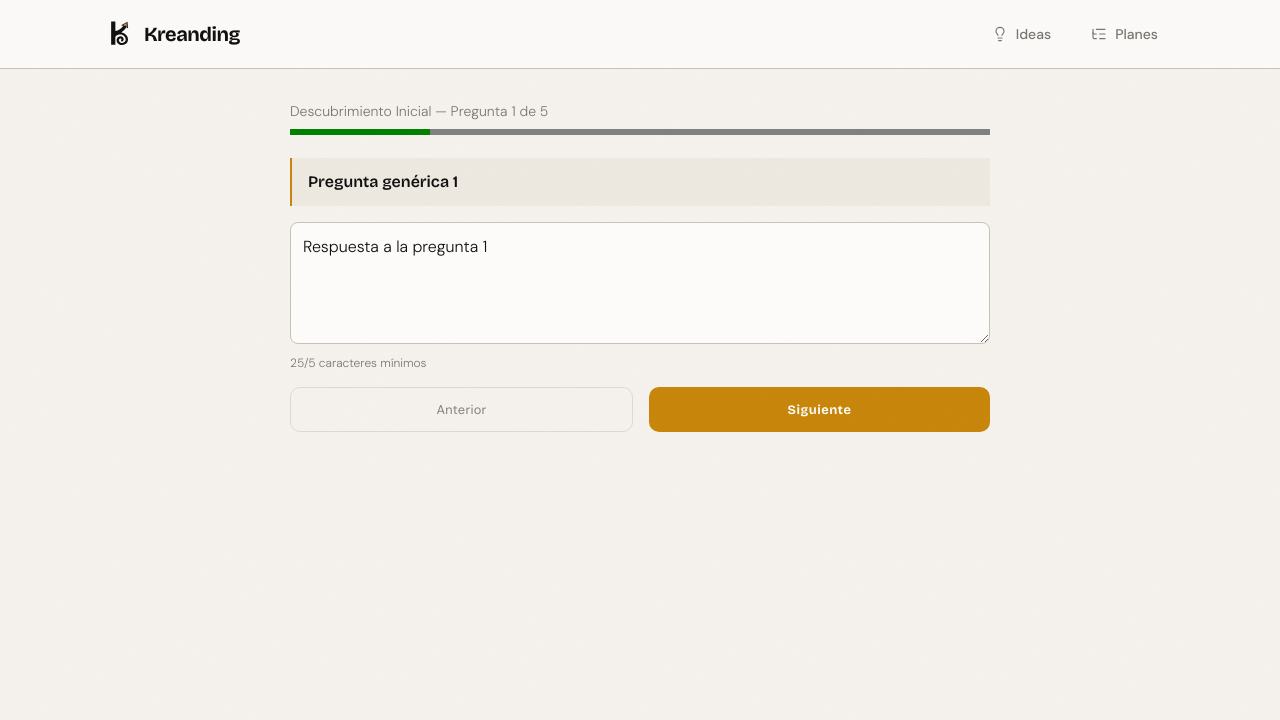
Test: Preguntas genéricas › la última pregunta lleva al resumen
Check: the text "Pregunta genérica 1" is shown, box [308,172,458,191]
Click the button "Siguiente" at (820, 410), box [649,387,990,432]
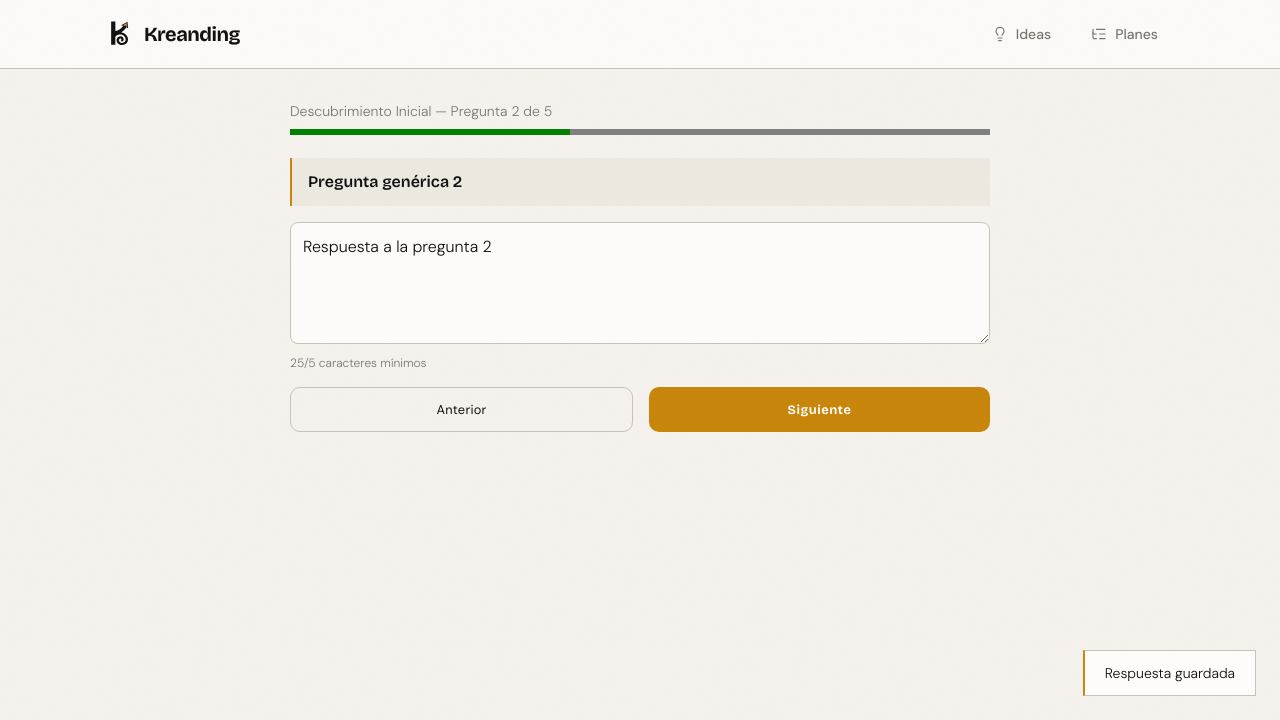
Check: the text "Pregunta genérica 2" is shown, box [308,172,462,191]
Click the button "Siguiente" at (820, 410), box [649,387,990,432]
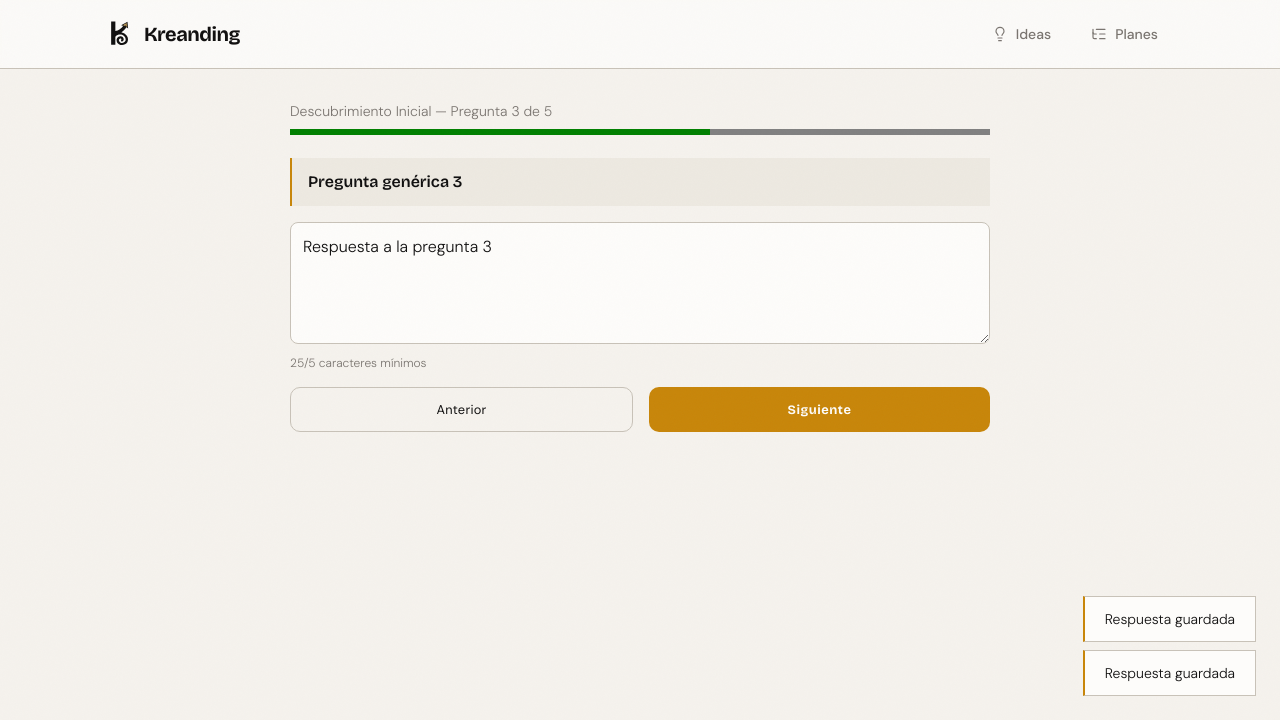
Click the button "Siguiente" at (820, 410), box [649,387,990,432]
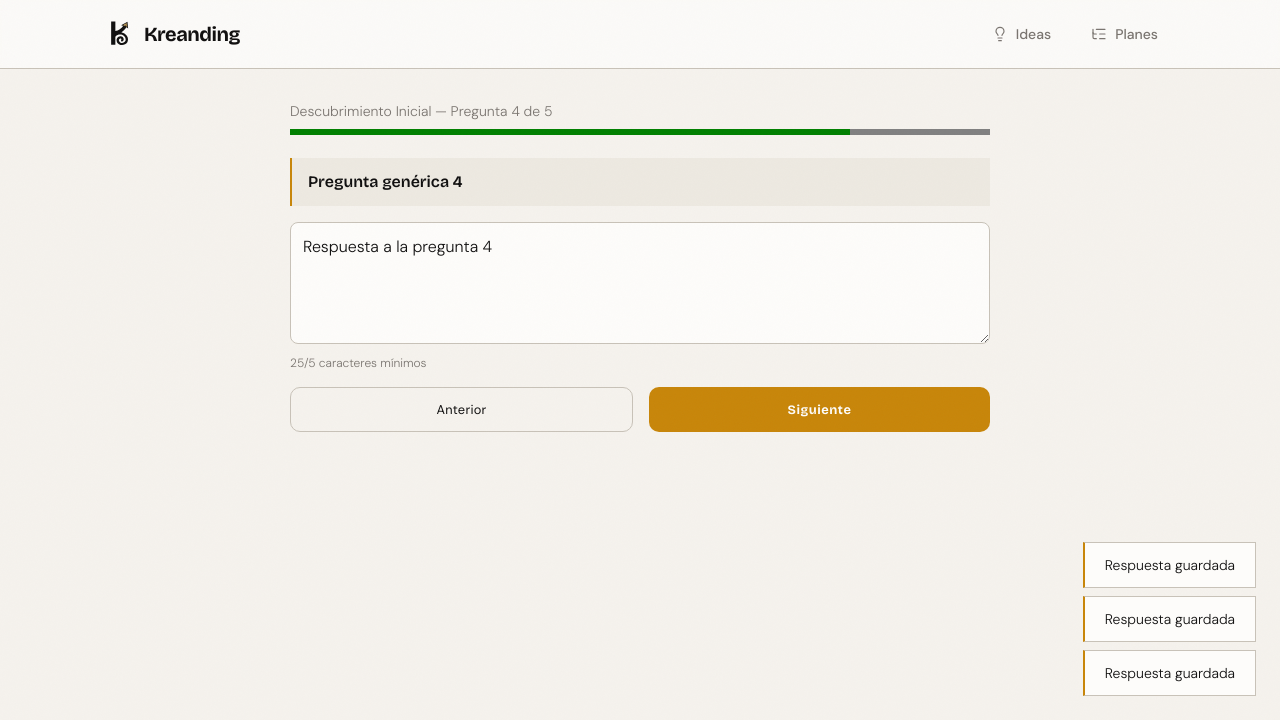
Click the button "Siguiente" at (820, 410), box [649,387,990,432]
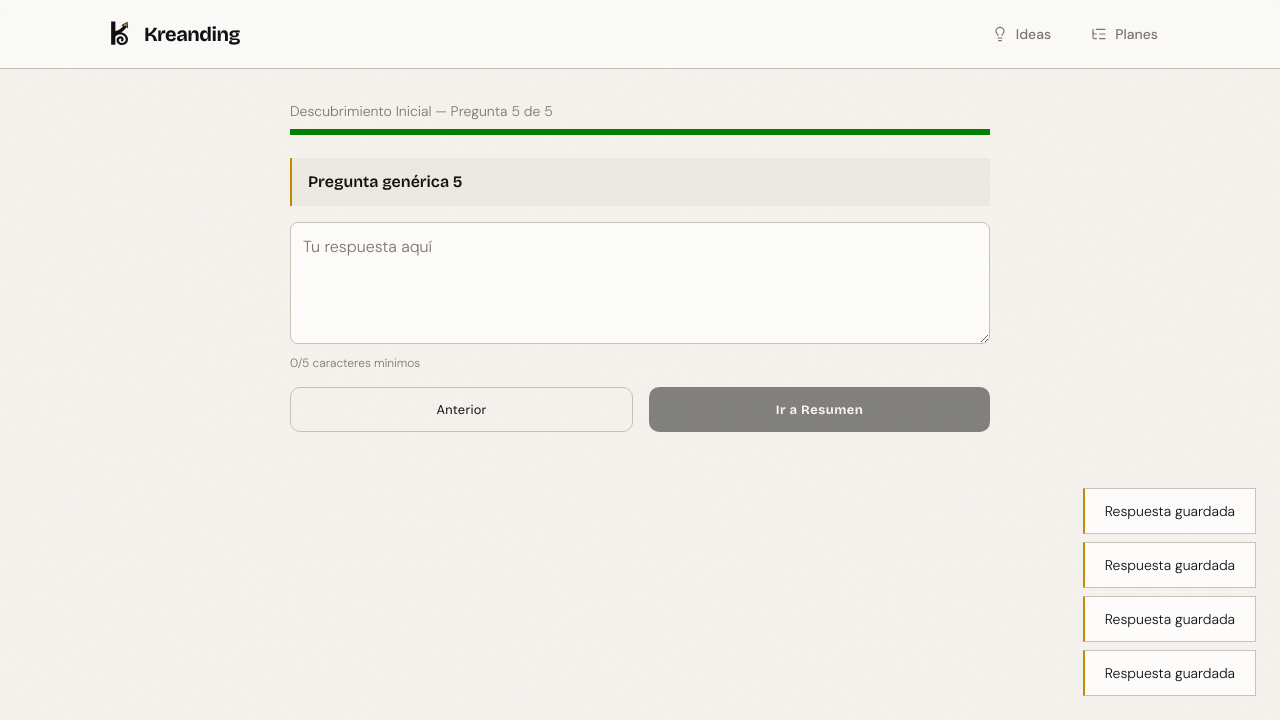
Check: the text "Pregunta genérica 5" is shown, box [308,172,462,191]
Type "Respuesta final suficientemente larga" into the text box at (640, 283), box [290,222,990,344]
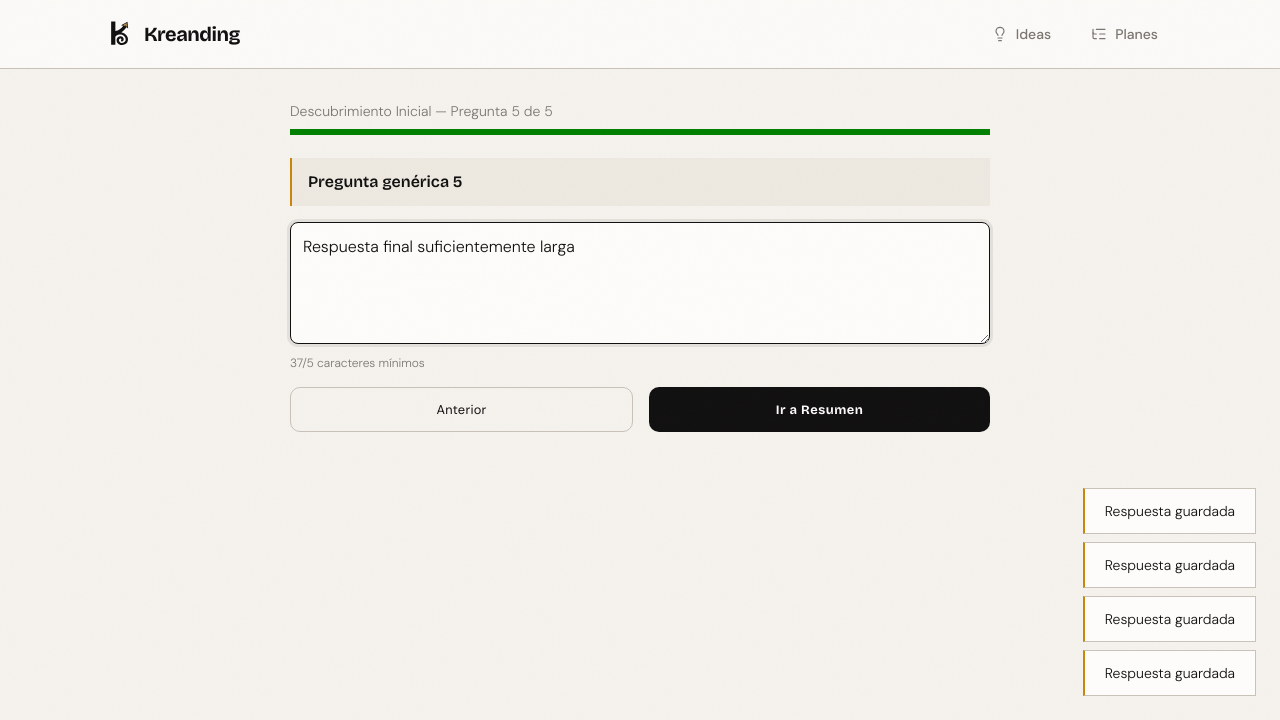
Click the button "Ir a Resumen" at (820, 410), box [649,387,990,432]
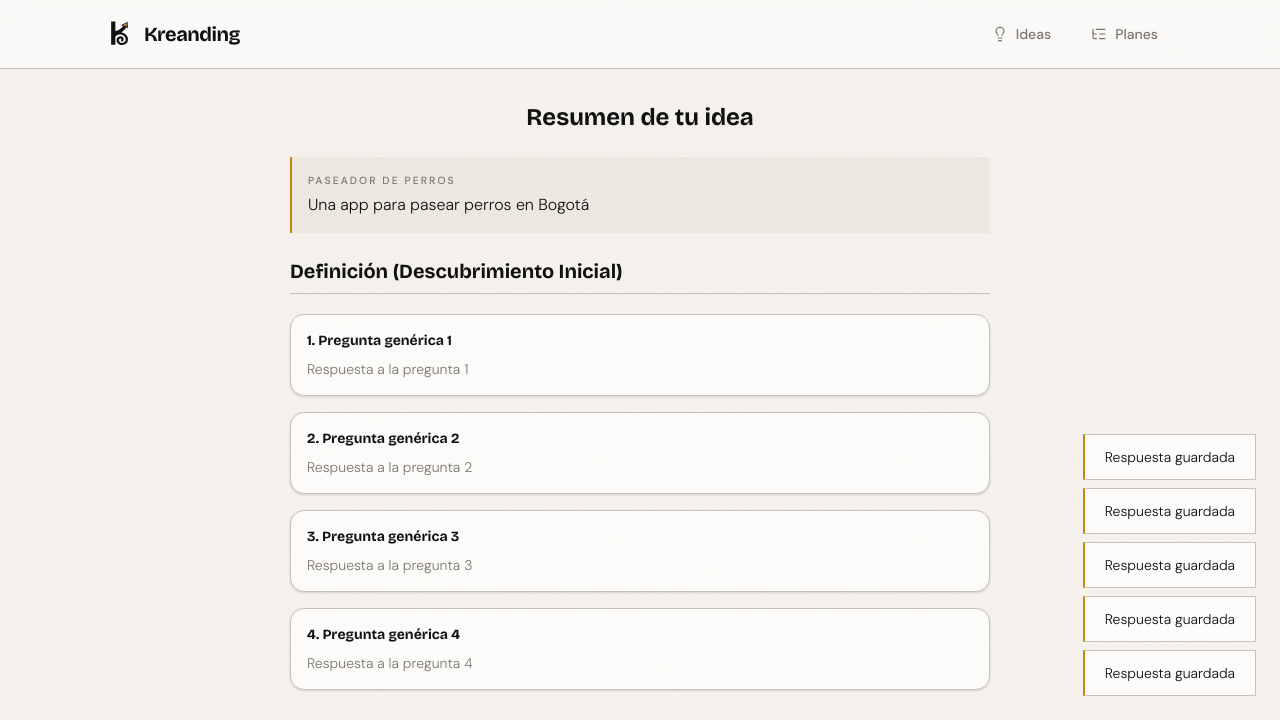
Check: the heading "Resumen de tu idea" is shown, box [526,103,754,131]
